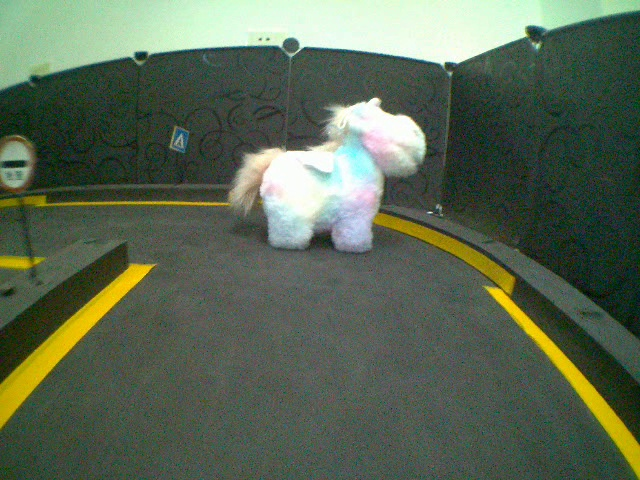unicorn: (233, 95, 430, 258)
